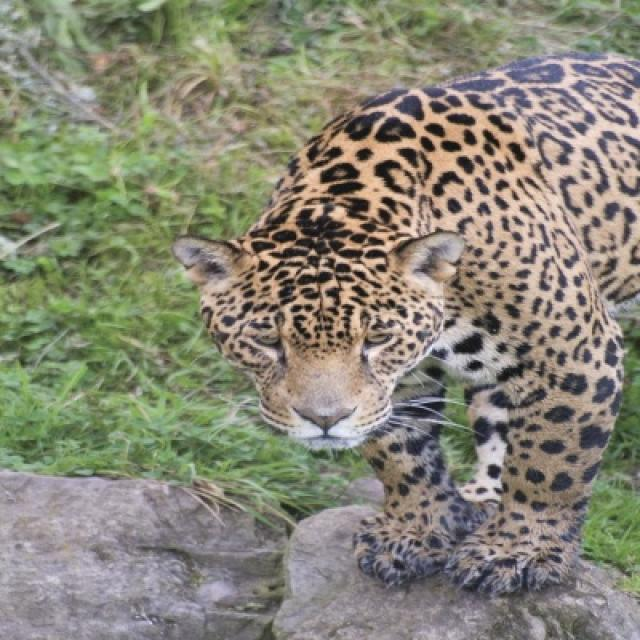Jaguar: (171, 54, 638, 602)
